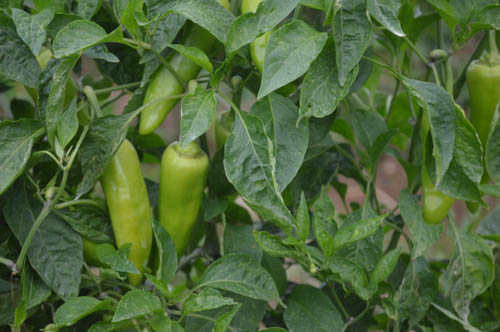ChiliPepper: (135, 2, 230, 138), (100, 140, 154, 287), (157, 145, 207, 276), (462, 63, 498, 215)
